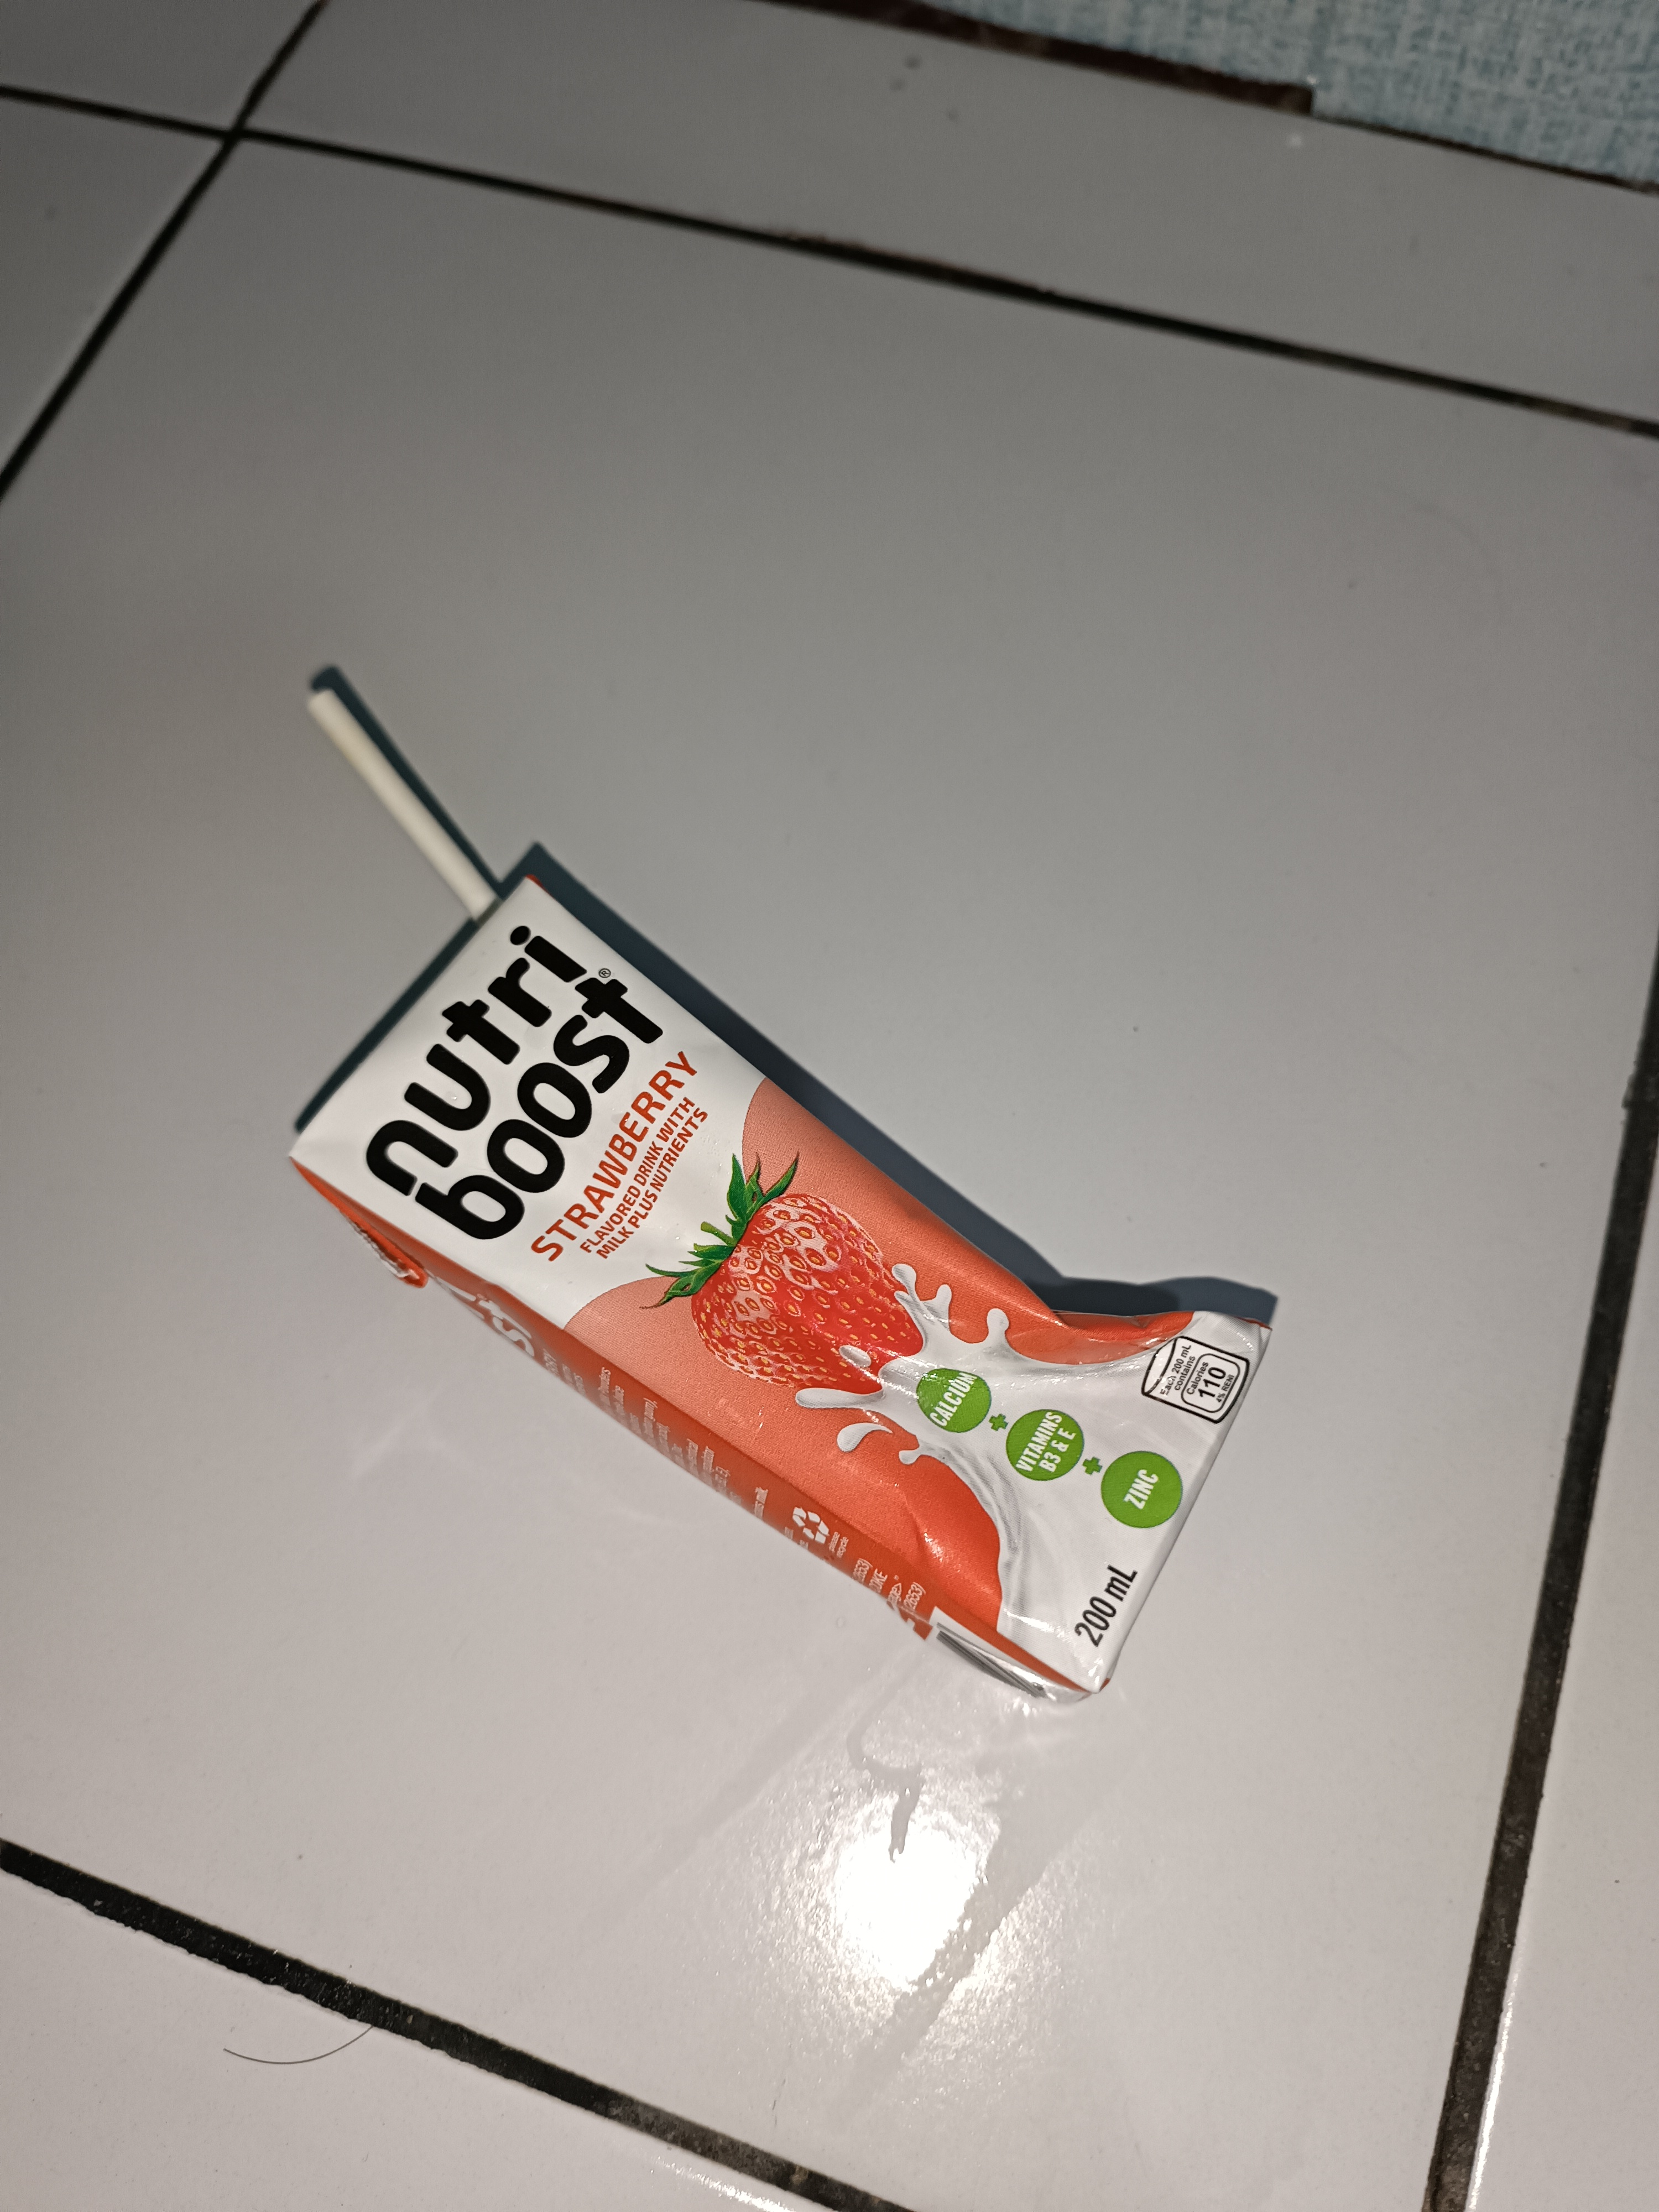Juice Box: (213, 674, 1239, 1759)
